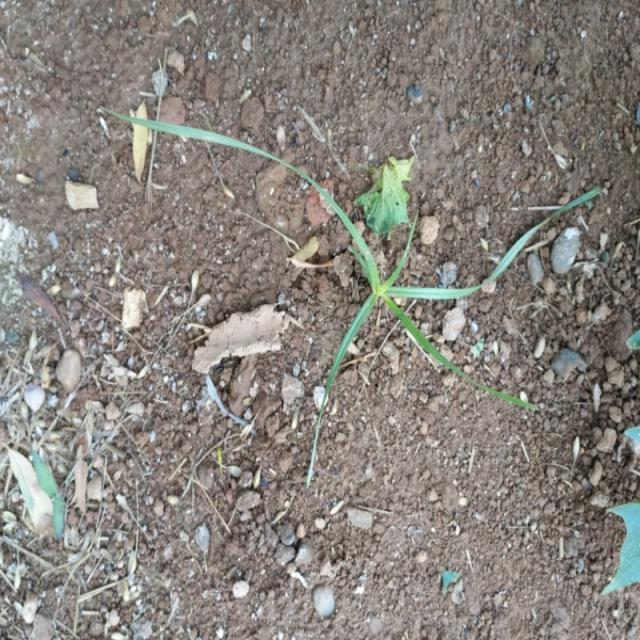sedge: (228, 81, 569, 425)
